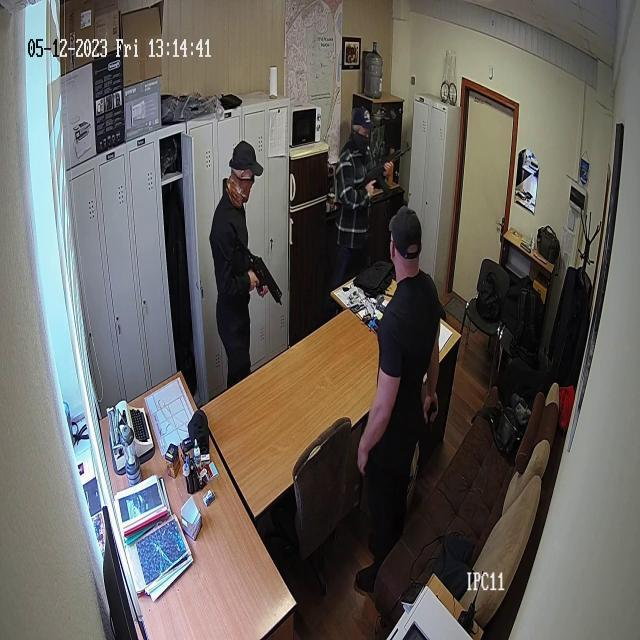pistol: (228, 220, 284, 307), (361, 136, 412, 193), (422, 382, 442, 440)
